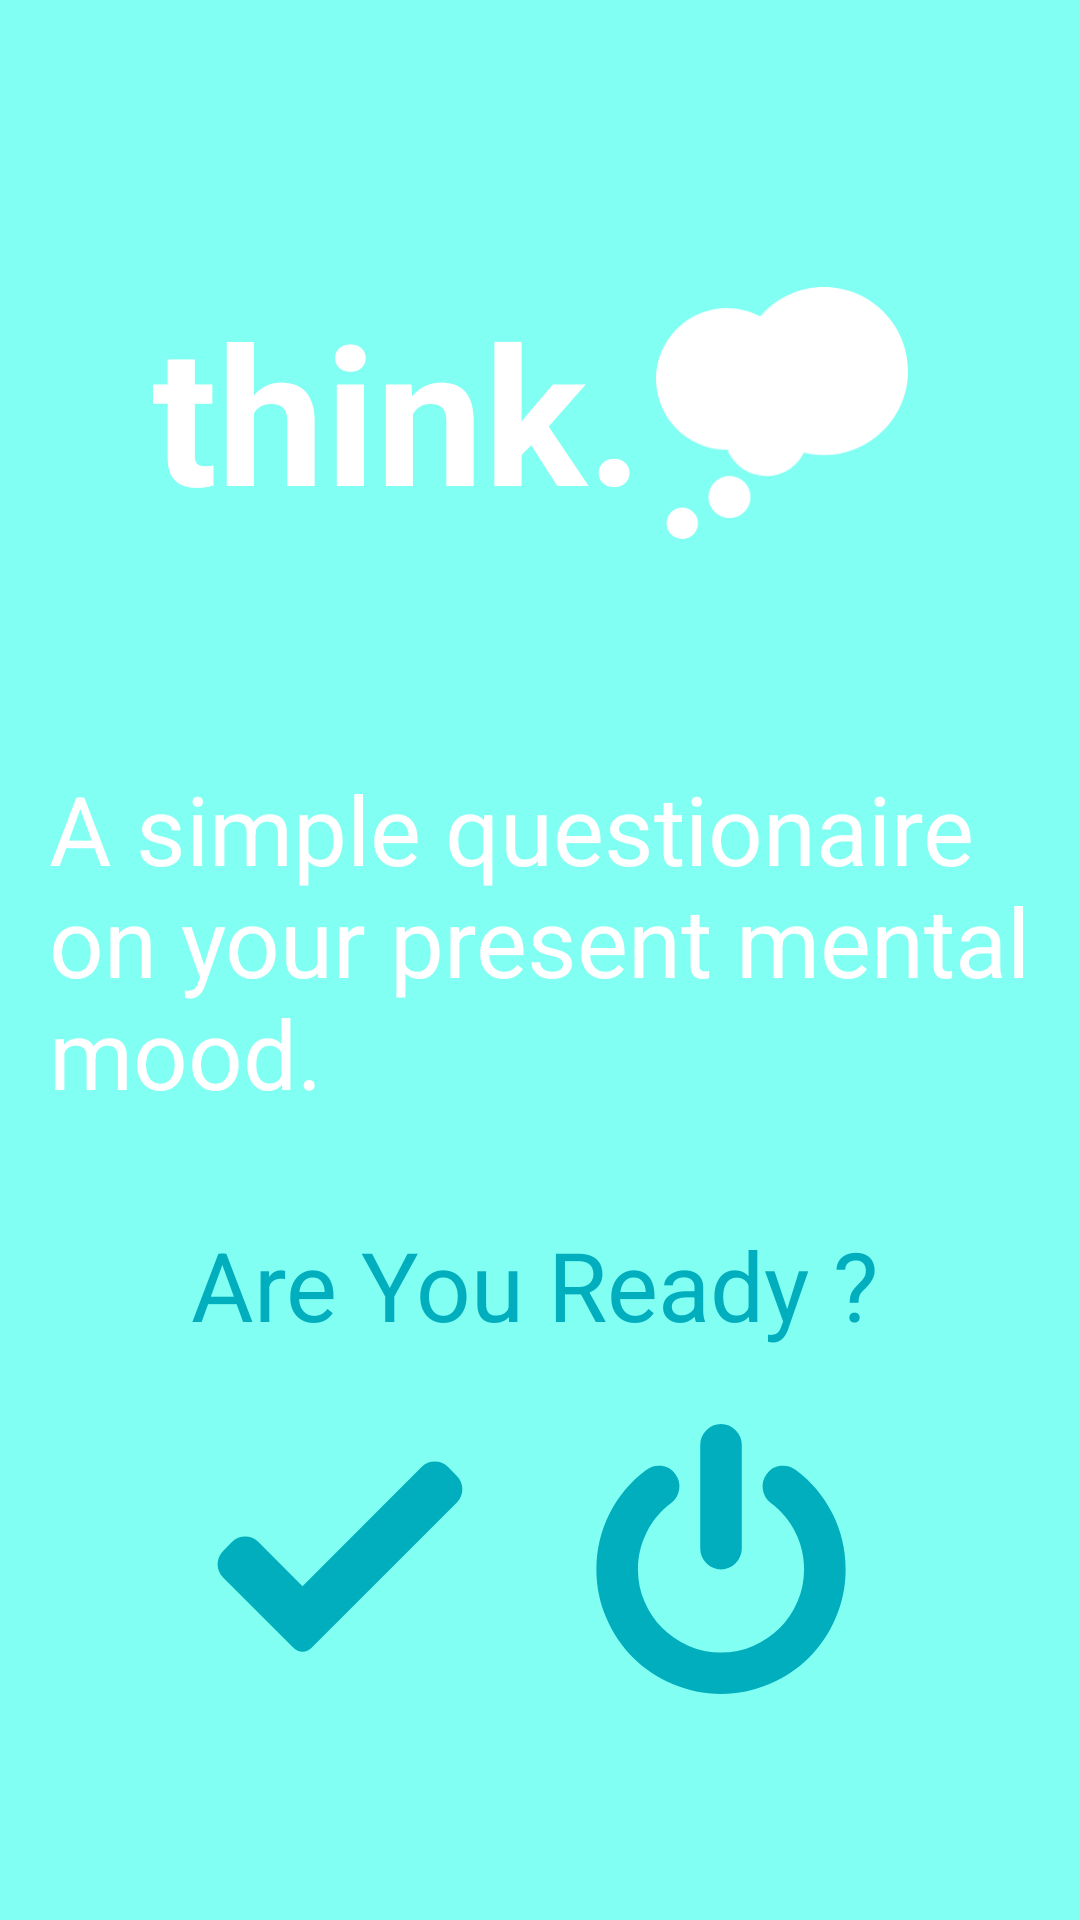

Where to tap for icons on this 1080x1920 app screen, as (x=x, y=y):
Bye: (x=721, y=1559)
Let's go!: (x=340, y=1556)
